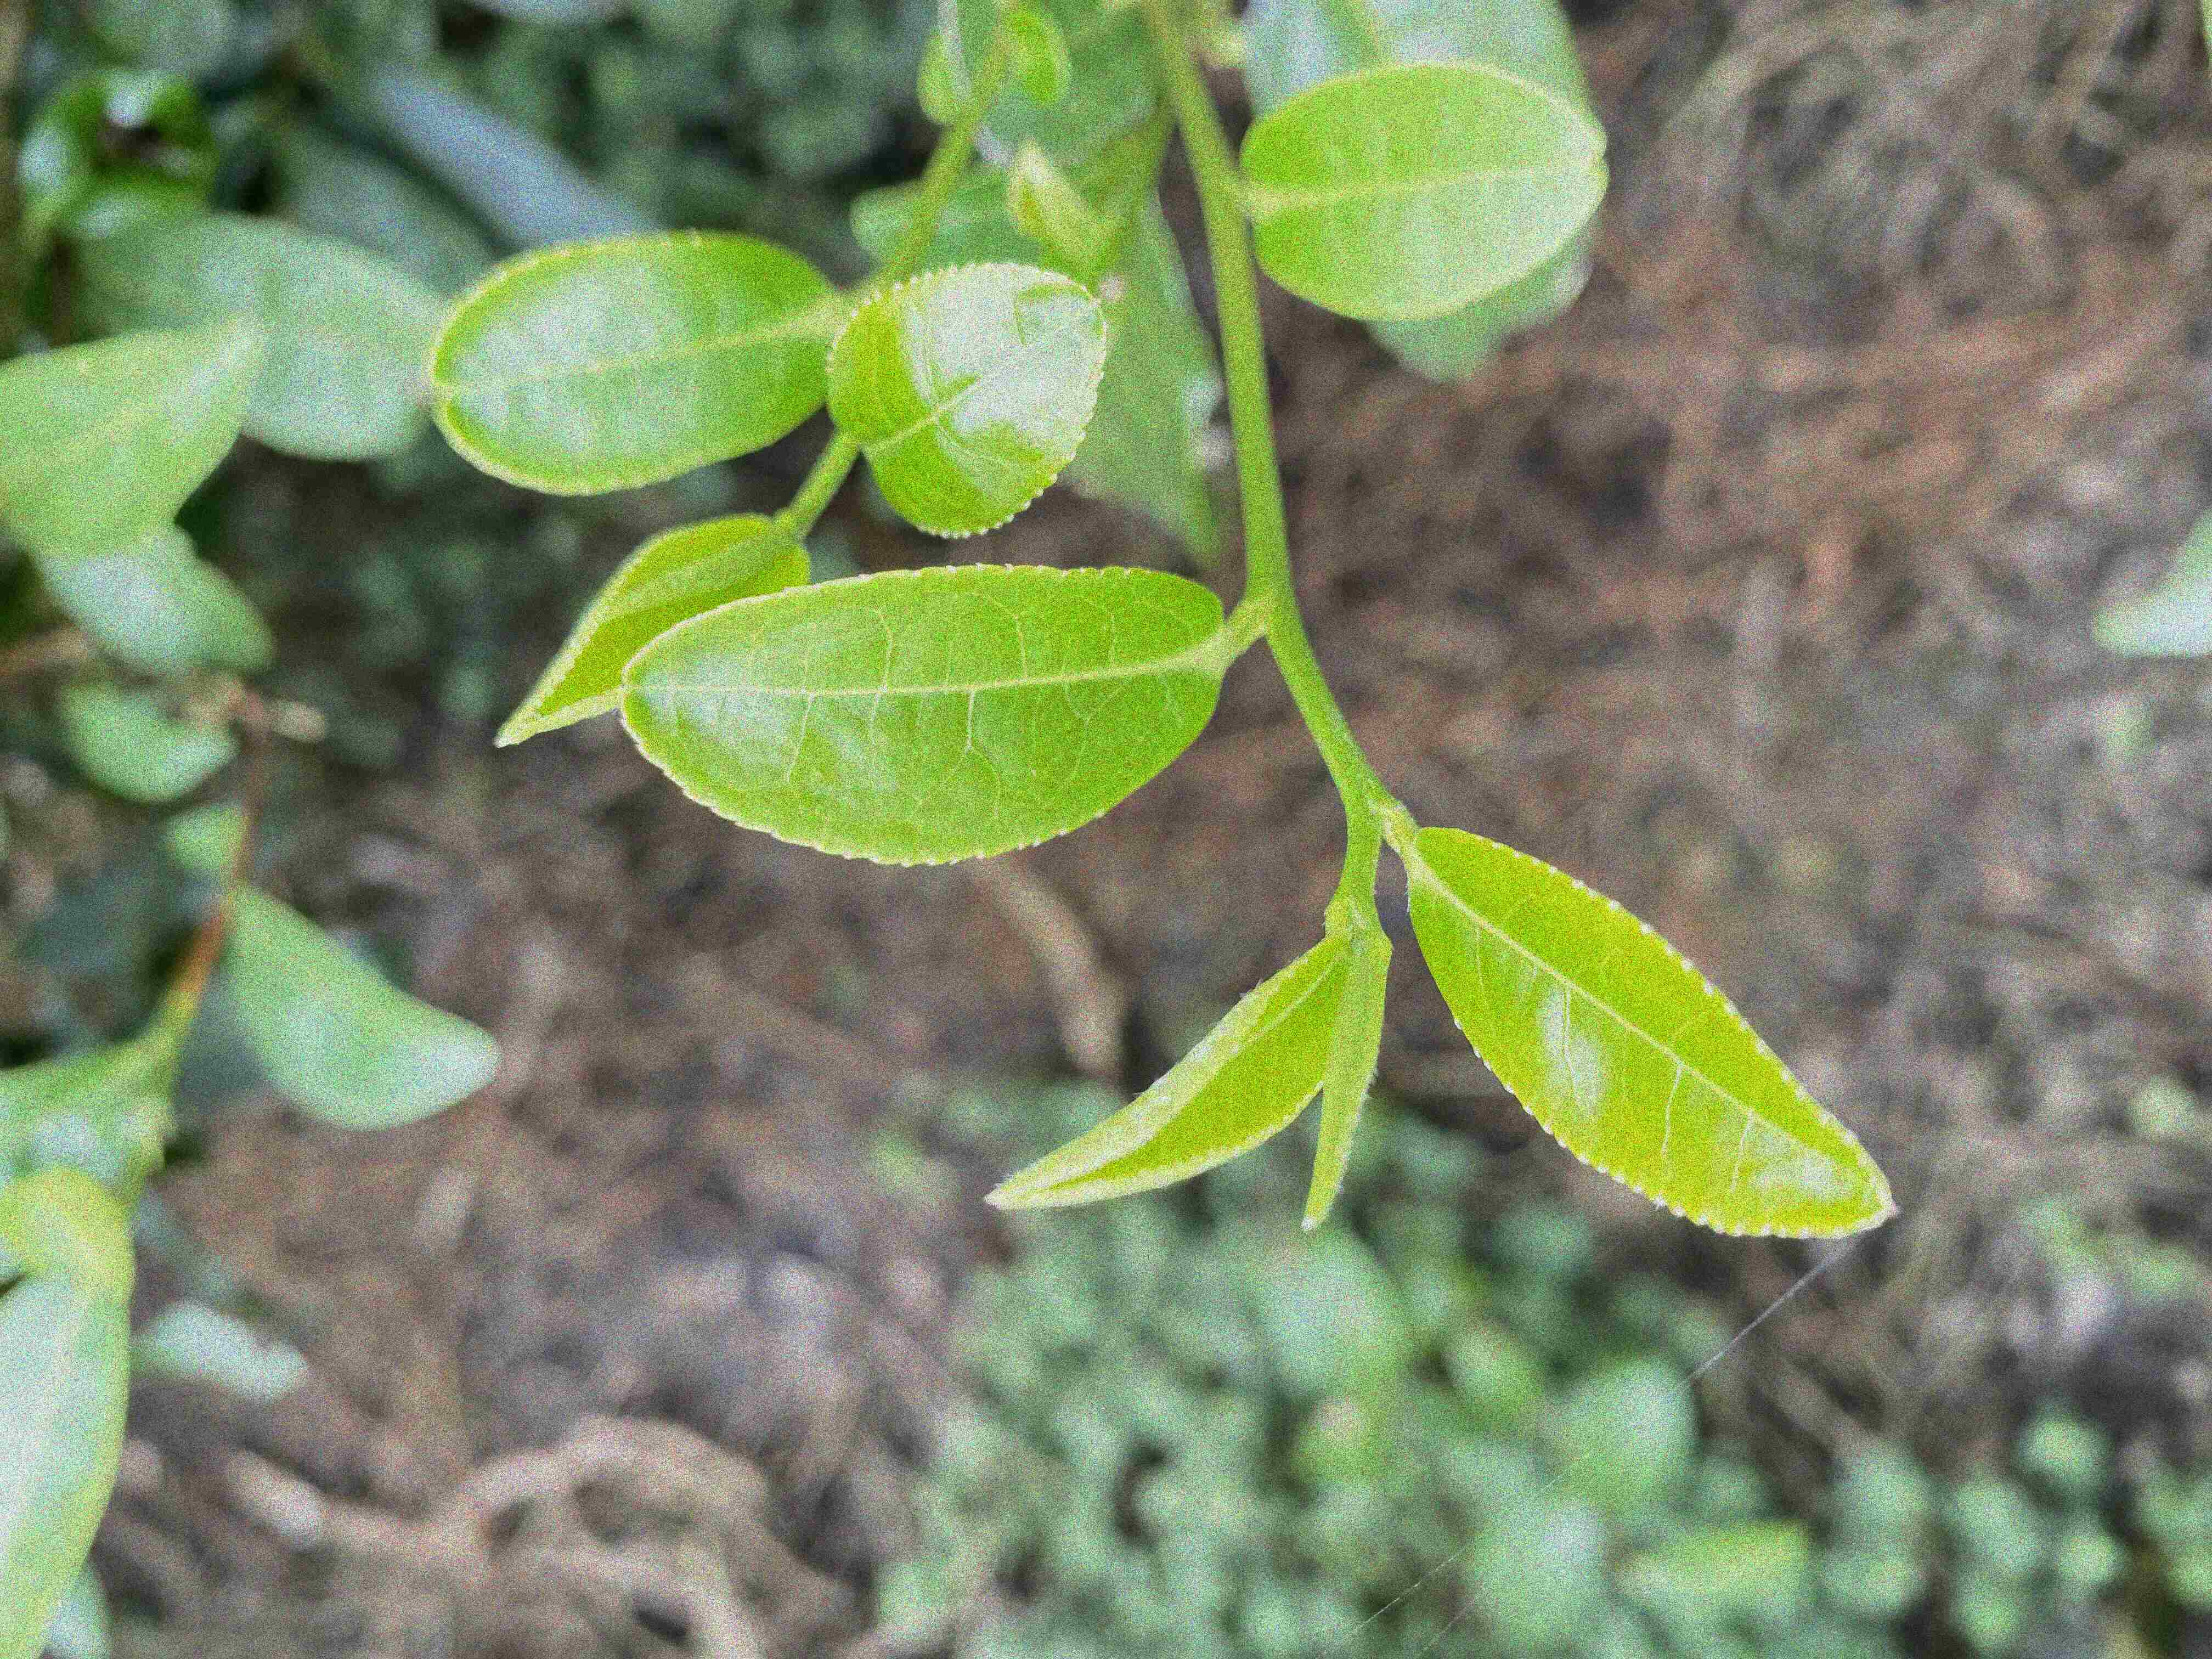healthy: (1406, 817, 1890, 1241), (624, 565, 1230, 868), (427, 232, 843, 495), (988, 925, 1359, 1215), (1237, 61, 1606, 321), (822, 261, 1111, 540)
